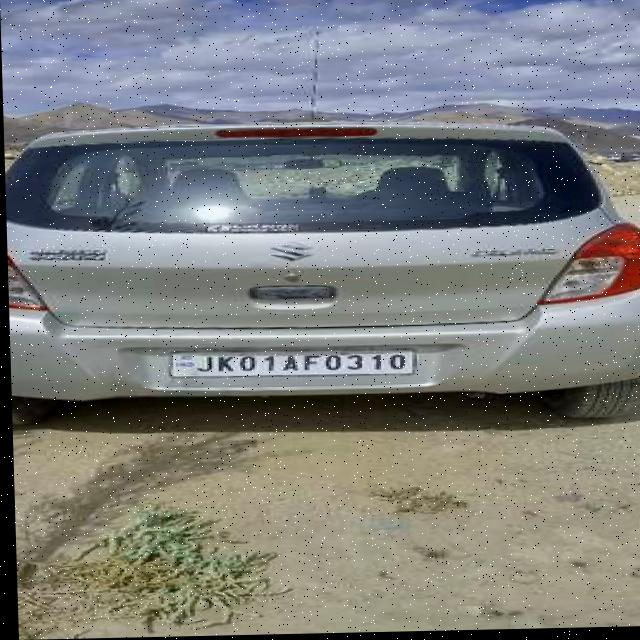plate: (164, 347, 415, 381)
